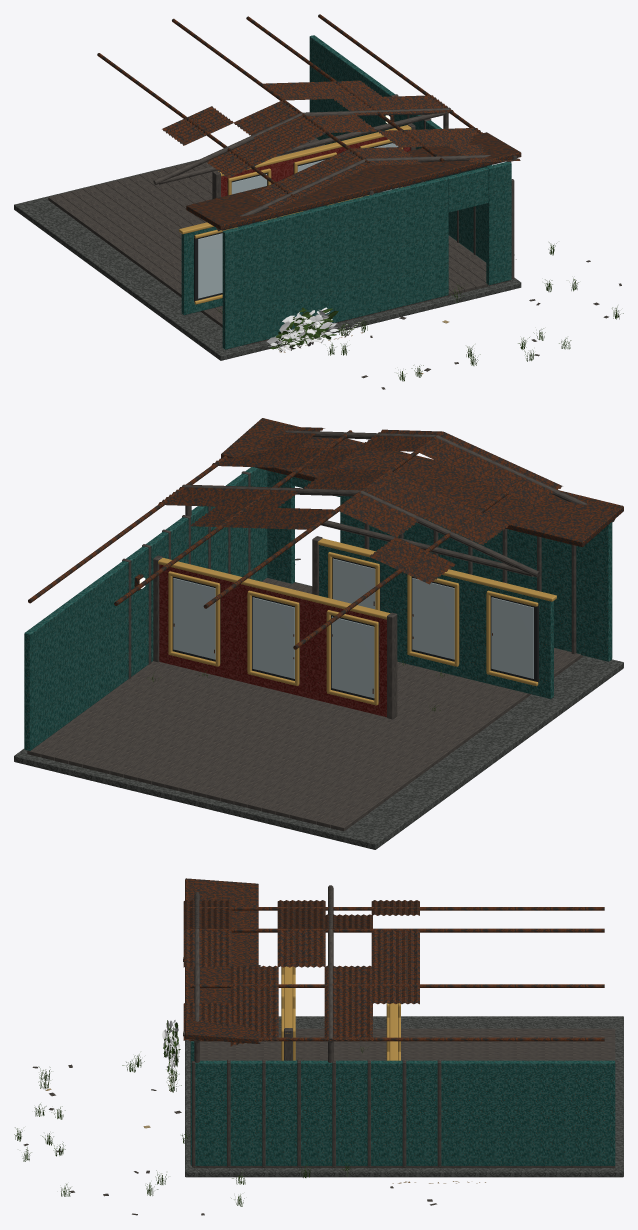
File: SM_Env_Tile_p1_p1.fbx
3 views of the same model, one above another, from view 1: azimuth 30°, elevation 25°; view 2: azimuth 150°, elevation 25°; view 3: azimuth 270°, elevation 25° (orthographic). The views are drawn at different scales.
Parts seen in each view (by area): view 1: SM_Env_Tile_p1_p1; view 2: SM_Env_Tile_p1_p1; view 3: SM_Env_Tile_p1_p1.
Boxes of the visible parts, x1=… form: SM_Env_Tile_p1_p1: x1=14, y1=14, x2=623, y2=389; SM_Env_Tile_p1_p1: x1=14, y1=418, x2=623, y2=849; SM_Env_Tile_p1_p1: x1=14, y1=878, x2=623, y2=1215.
Size of what is drawn, in the model's own units: 1319 by 1737 by 540.
16 materials, 8 textured.
